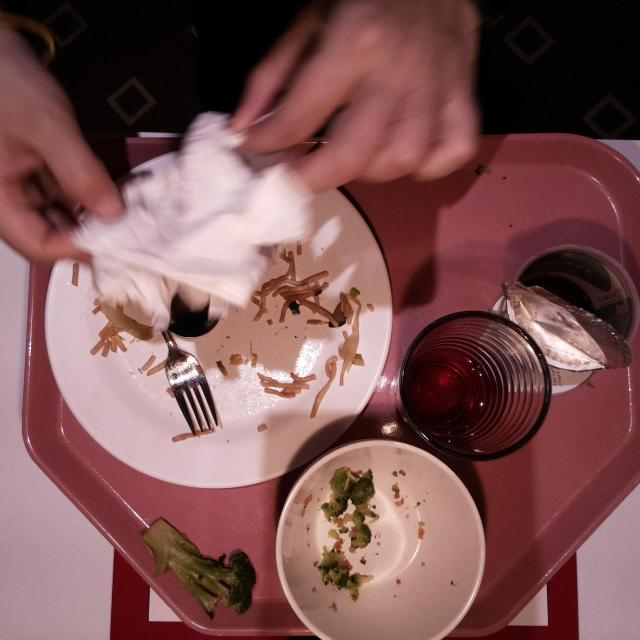Noodle: (260, 263, 328, 306)
Vegetable: (211, 548, 257, 618), (316, 550, 374, 590), (330, 465, 376, 513), (348, 516, 370, 546)
